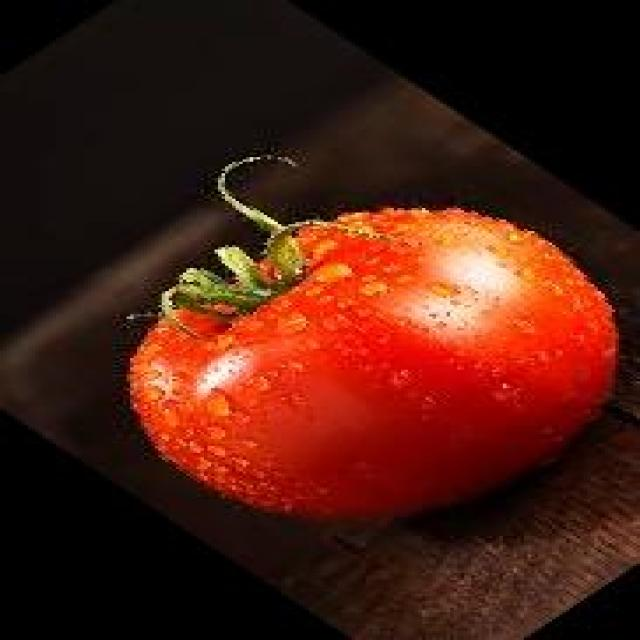Tomato: (118, 206, 626, 524)
